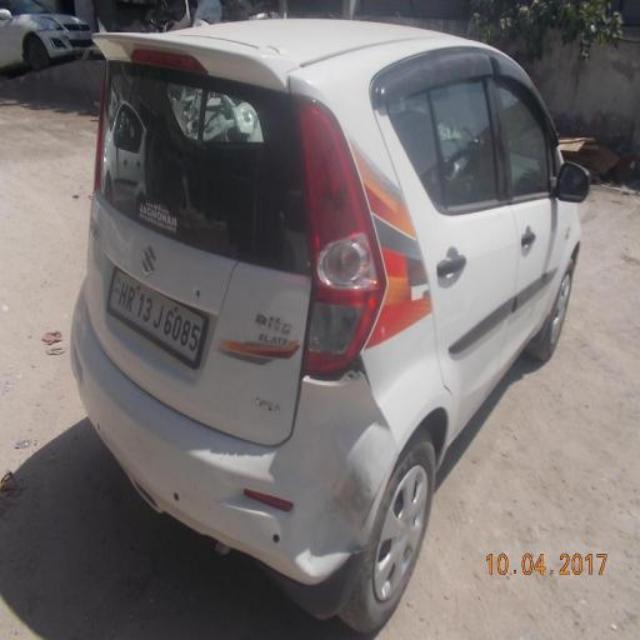dent: (289, 375, 397, 572)
dislocated part: (302, 349, 371, 387)
